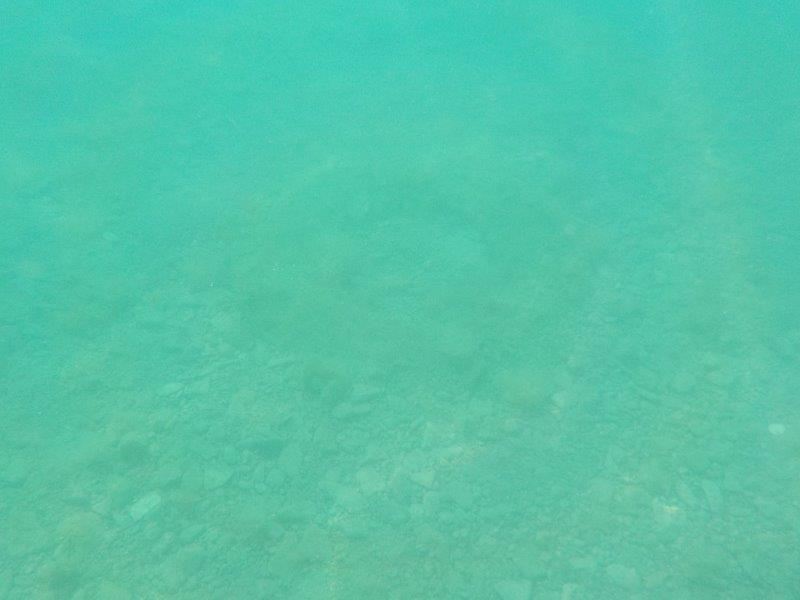tire: (224, 126, 595, 395)
